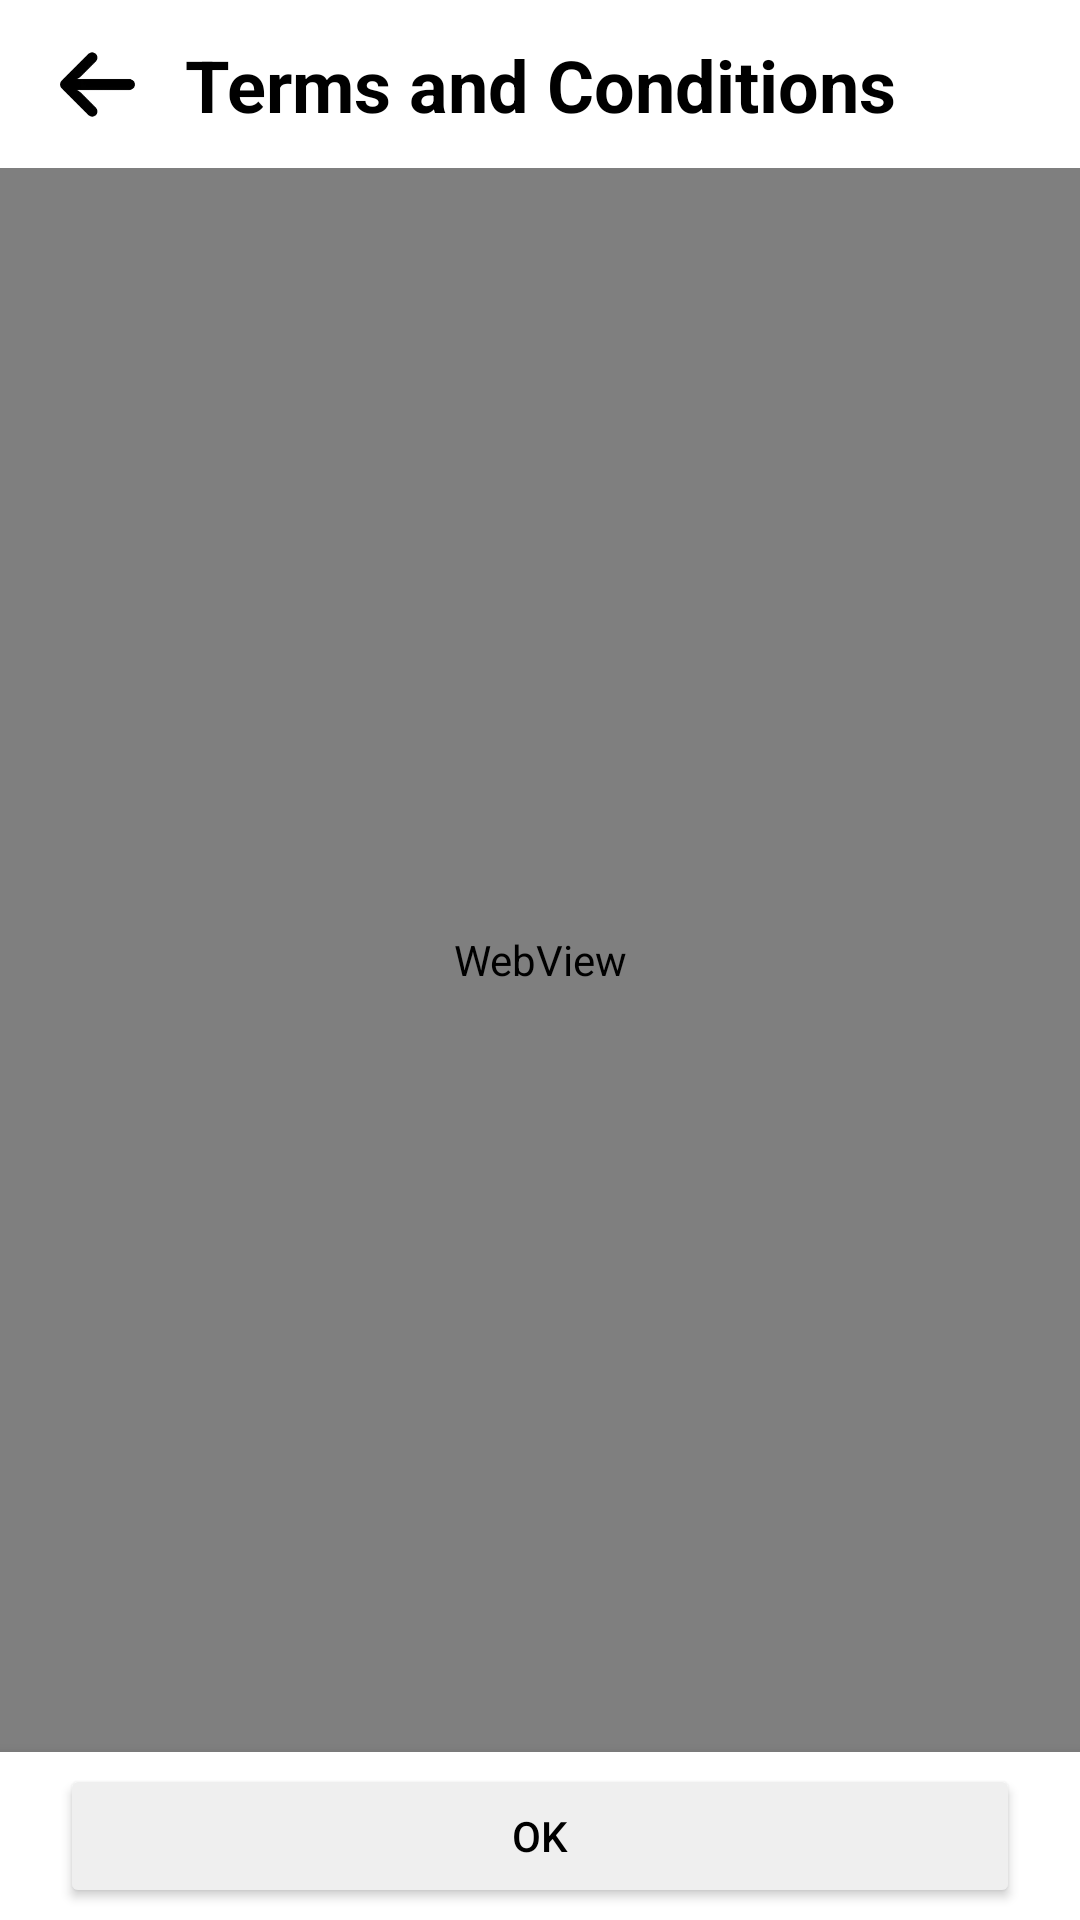

Where icons sit on this 1080×1920 app screen, as (x1, y1, x2, y2):
back: (60, 52, 135, 117)
